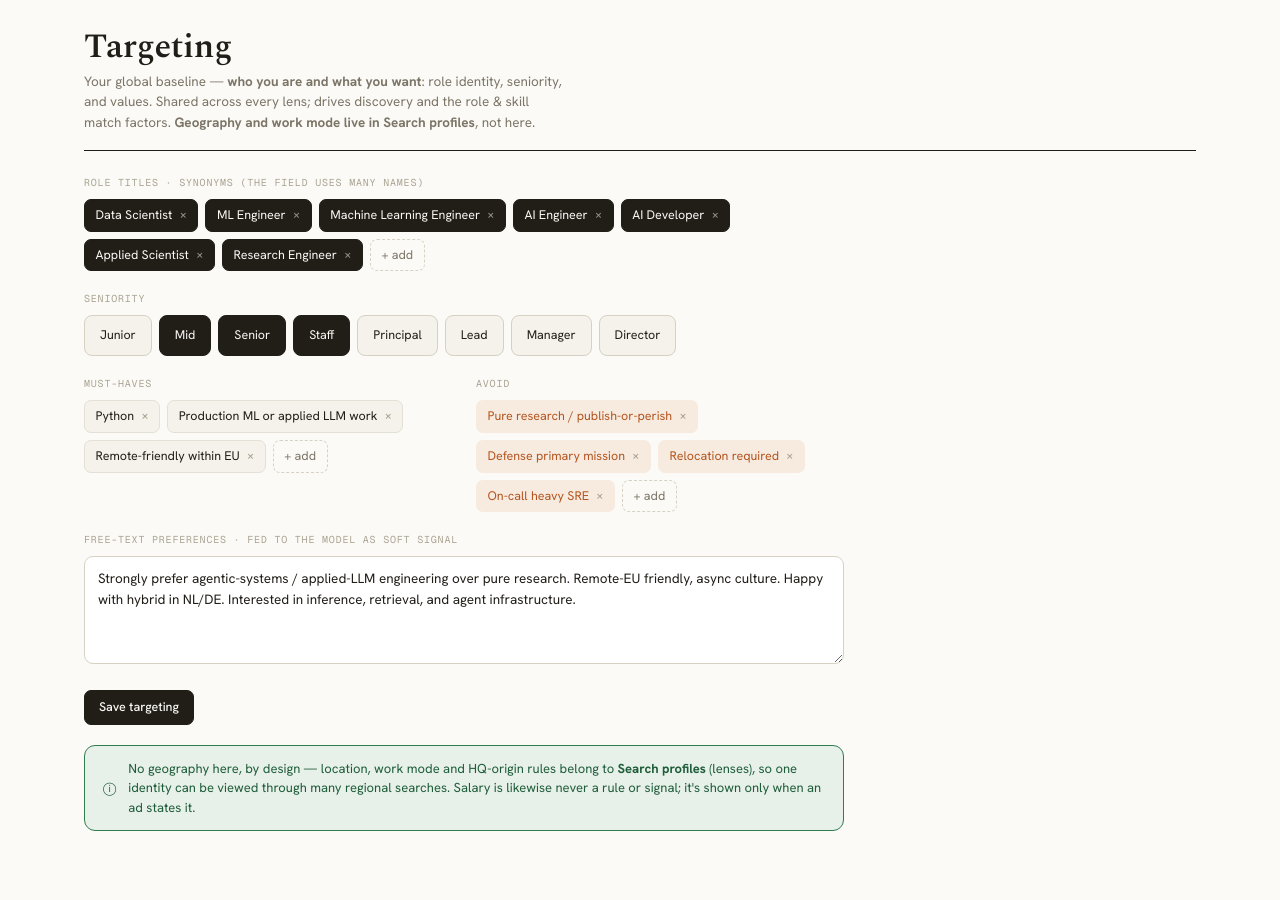
TargetingView › adds a role title via the suggestions input (free-add)
Step 1. Click the button "+ add" next to "Research Engineer" → [397, 255], box [370,238,425,271]
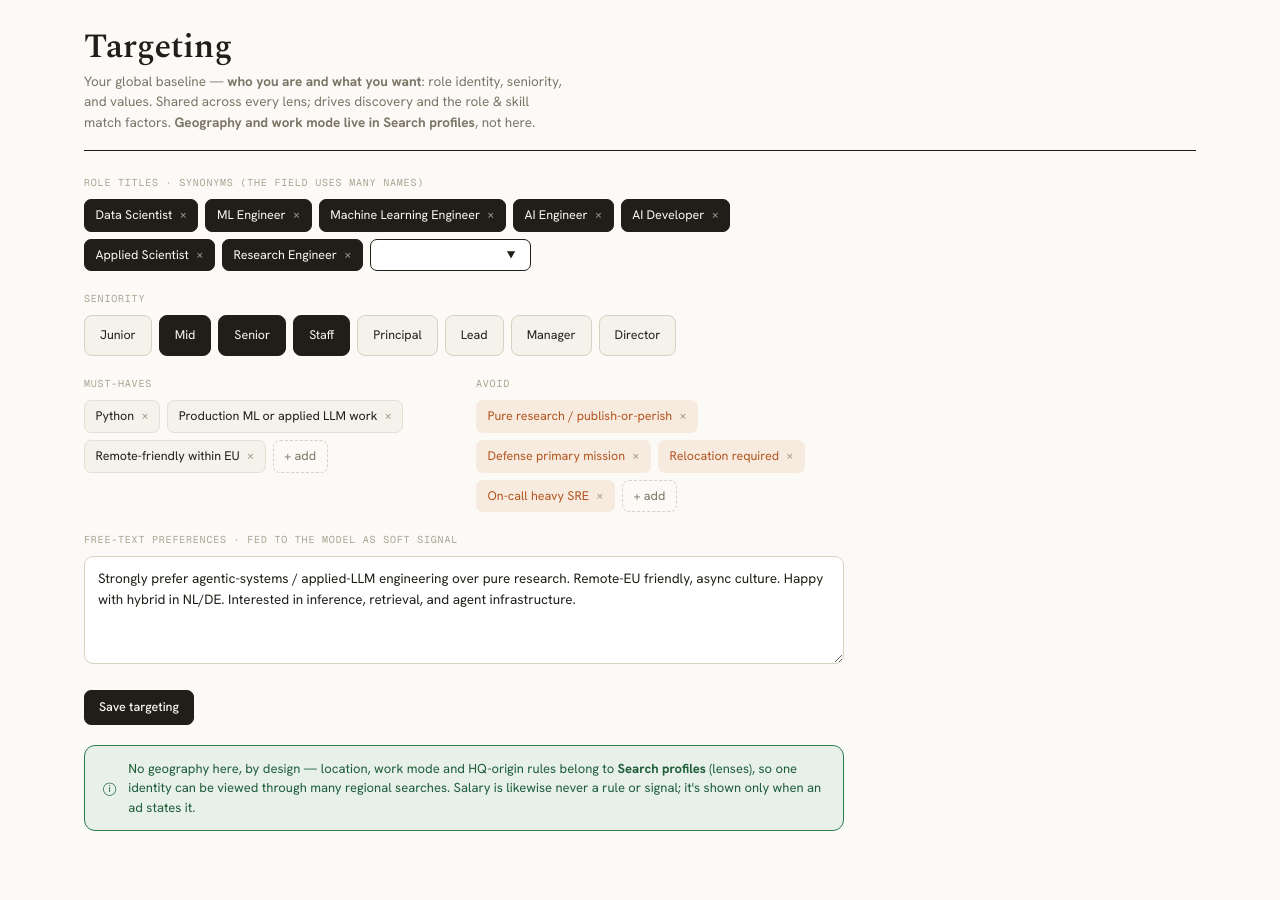
Step 2. Type "LLM Engineer" into the field → [450, 255], box [370,238,531,271]
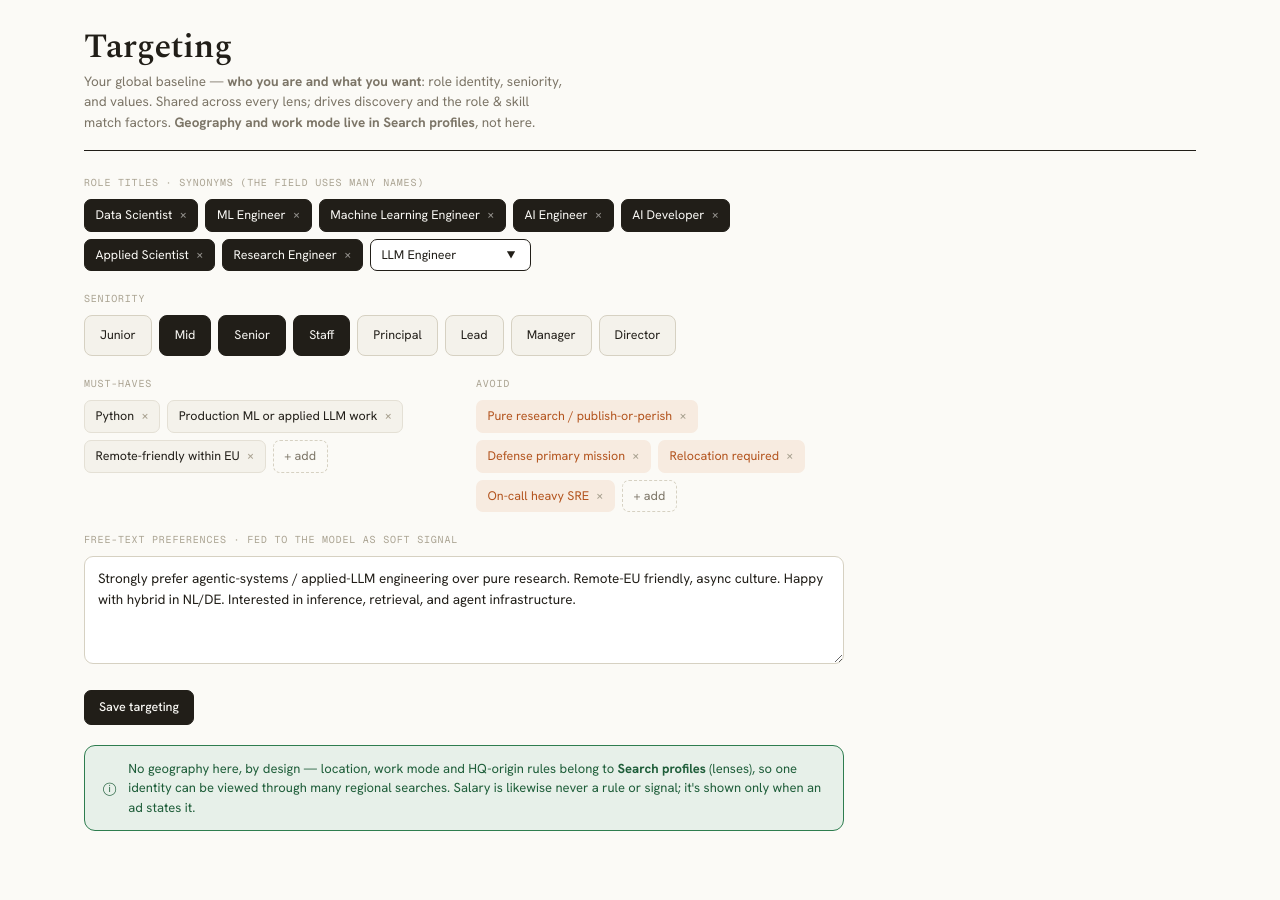
Step 3. Press Enter in the field, box [370,238,531,271]
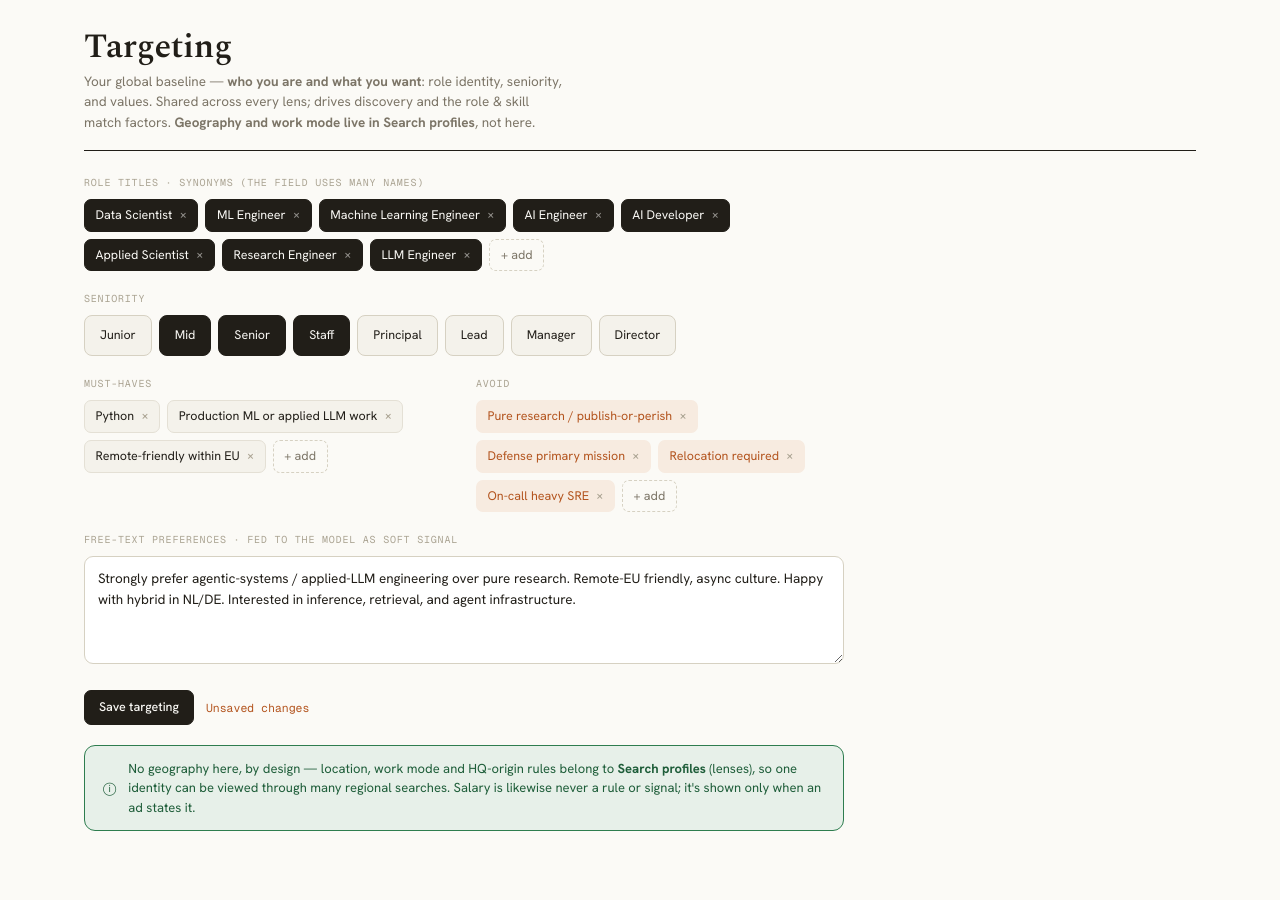
Expected: the text "LLM Engineer" is shown, [381,246,456,262]
